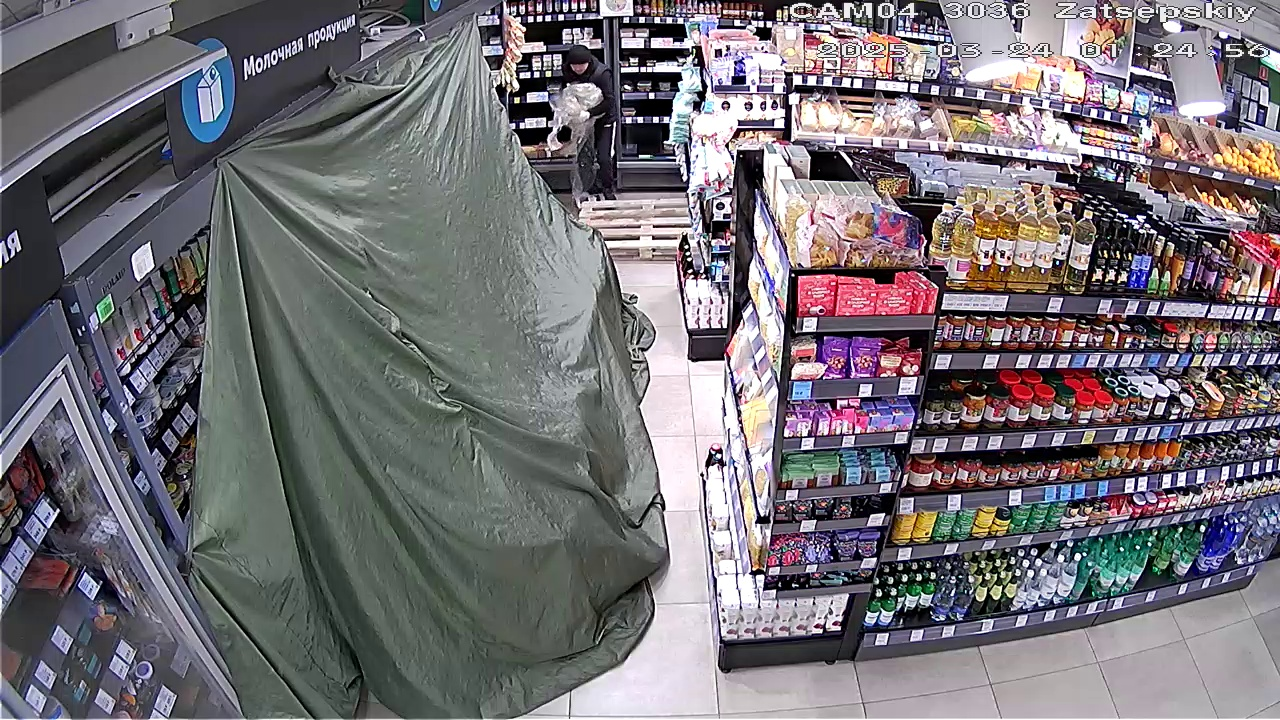Human: (538, 39, 630, 174)
dome: (202, 59, 664, 711)
pallet: (571, 201, 715, 263)
